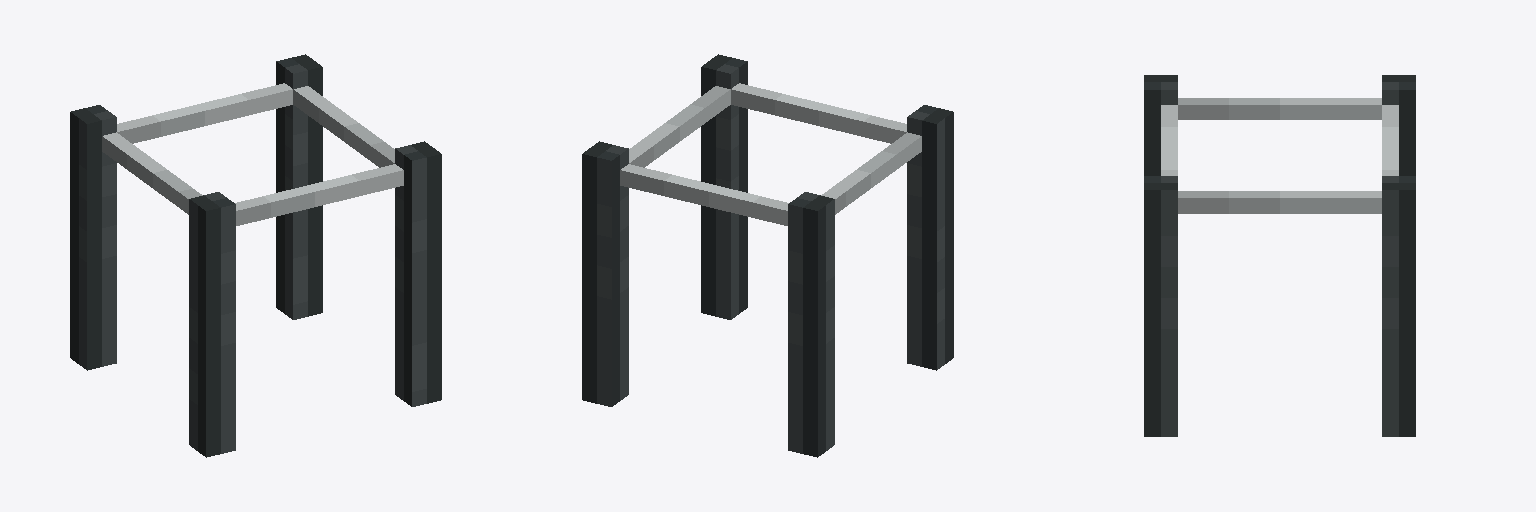
3 renders of one model, left to right at view 1: azimuth 30°, elevation 25°; view 2: azimuth 150°, elevation 25°; view 3: azimuth 270°, elevation 25°, orthographic.
Visible parts, largest first — view 1: cube; view 2: cube; view 3: cube.
Part boxes in pixels (x1,y1,x2,y2): cube: (70,54,441,457); cube: (582,54,953,457); cube: (1144,75,1415,436).
Size of the model in its own units: 1 by 1 by 1.
2 materials, 2 textured.